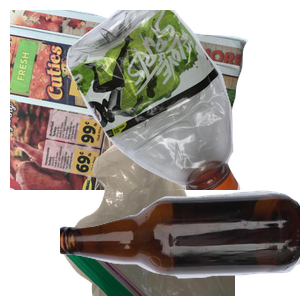glass: (60, 188, 300, 300)
paper: (10, 10, 250, 190)
plastic: (64, 10, 300, 190)
trash: (60, 120, 300, 300)
